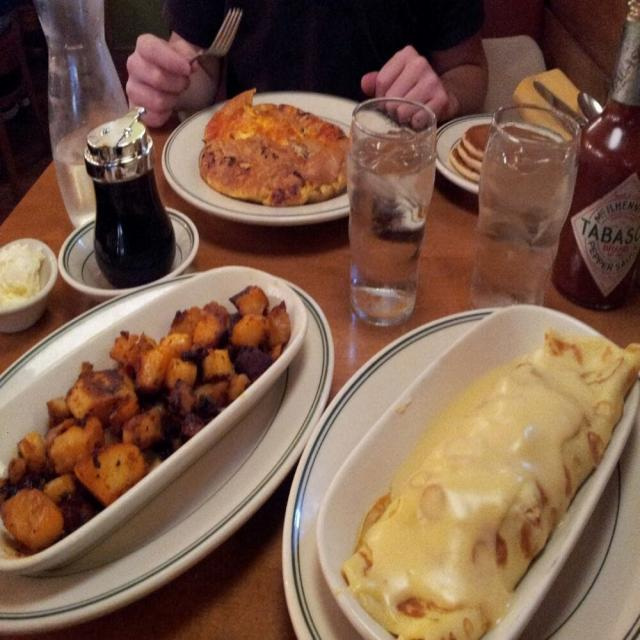Omelette: (346, 306, 640, 639), (194, 82, 370, 198)
Pancakes: (450, 114, 556, 180)
